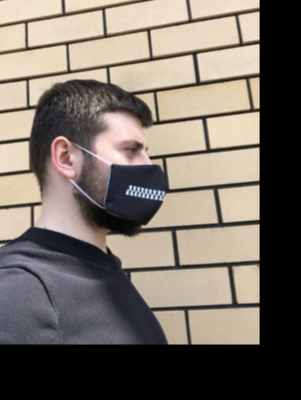with_mask: (101, 134, 165, 237)
